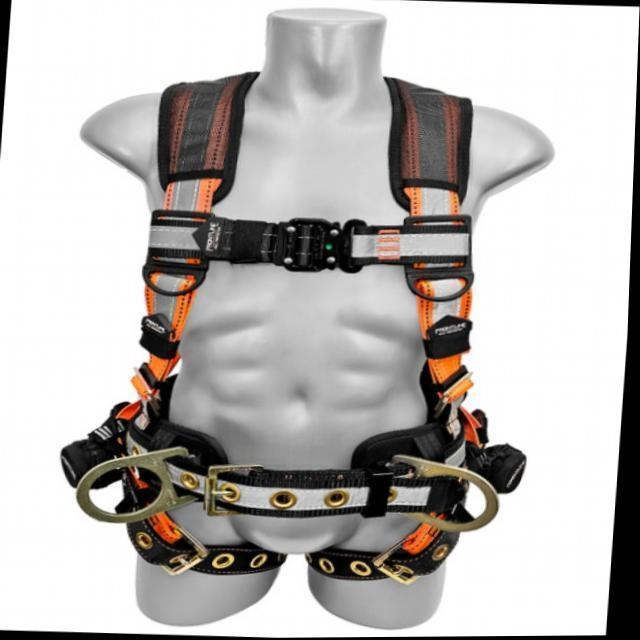Arnes_seguridad: (139, 69, 482, 588)
